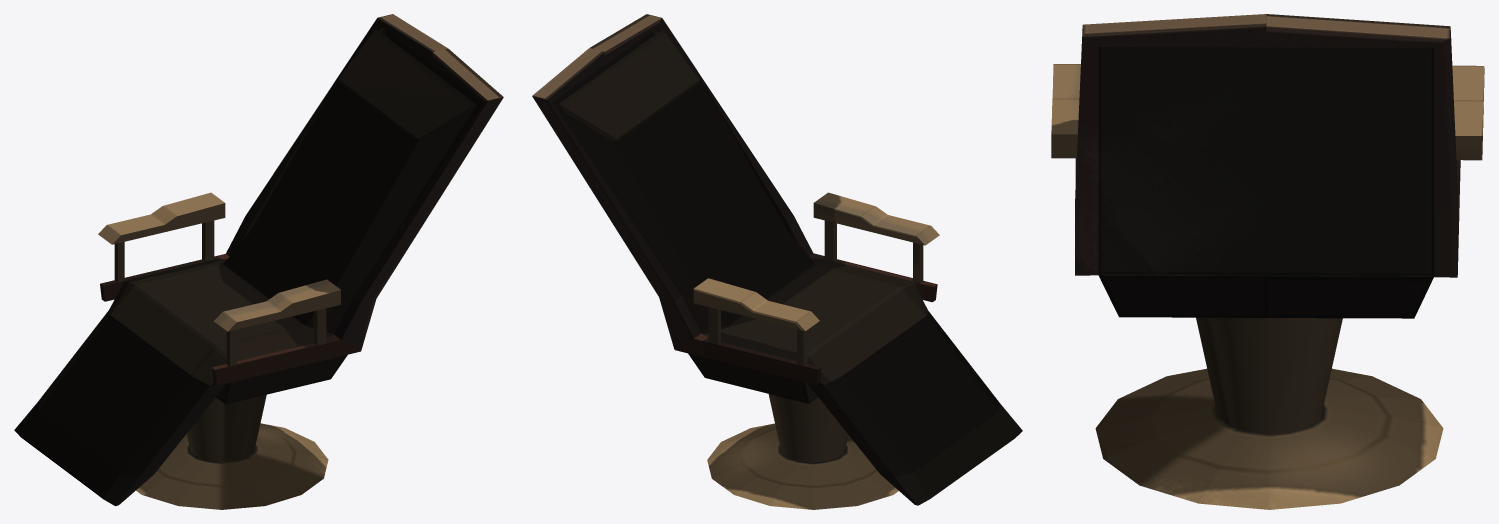
Rendered from Tx_props_Dentist_chair_9.fbx.
The picture shows the model from 3 angles, left to right: view 1: azimuth 30°, elevation 25°; view 2: azimuth 150°, elevation 25°; view 3: azimuth 270°, elevation 25°; orthographic projection. The views are drawn at different scales.
Parts seen in each view (by area): view 1: polySurface37, polySurface33, polySurface40, polySurface34, polySurface38, polySurface36, polySurface35, polySurface39; view 2: polySurface37, polySurface33, polySurface40, polySurface39, polySurface38, polySurface36, polySurface35, polySurface34; view 3: polySurface37, polySurface33, polySurface40, polySurface35, polySurface38, polySurface36.
Boxes of the visible parts, x1=… form: polySurface37: x1=14, y1=29, x2=483, y2=506; polySurface33: x1=136, y1=394, x2=328, y2=509; polySurface40: x1=226, y1=14, x2=503, y2=350; polySurface34: x1=212, y1=308, x2=360, y2=385; polySurface38: x1=98, y1=192, x2=225, y2=244; polySurface36: x1=214, y1=279, x2=340, y2=331; polySurface35: x1=216, y1=354, x2=347, y2=404; polySurface39: x1=100, y1=220, x2=229, y2=301; polySurface37: x1=552, y1=29, x2=1022, y2=505; polySurface33: x1=707, y1=352, x2=898, y2=509; polySurface40: x1=532, y1=14, x2=813, y2=349; polySurface39: x1=675, y1=307, x2=821, y2=385; polySurface38: x1=693, y1=278, x2=819, y2=331; polySurface36: x1=813, y1=192, x2=939, y2=245; polySurface35: x1=683, y1=333, x2=817, y2=403; polySurface34: x1=809, y1=220, x2=937, y2=302; polySurface37: x1=1098, y1=47, x2=1434, y2=276; polySurface33: x1=1095, y1=317, x2=1443, y2=509; polySurface40: x1=1075, y1=14, x2=1457, y2=277; polySurface35: x1=1098, y1=275, x2=1433, y2=318; polySurface38: x1=1452, y1=65, x2=1484, y2=160; polySurface36: x1=1051, y1=64, x2=1080, y2=158.
Size of the model in its own units: 6.64 by 5.94 by 3.96.
